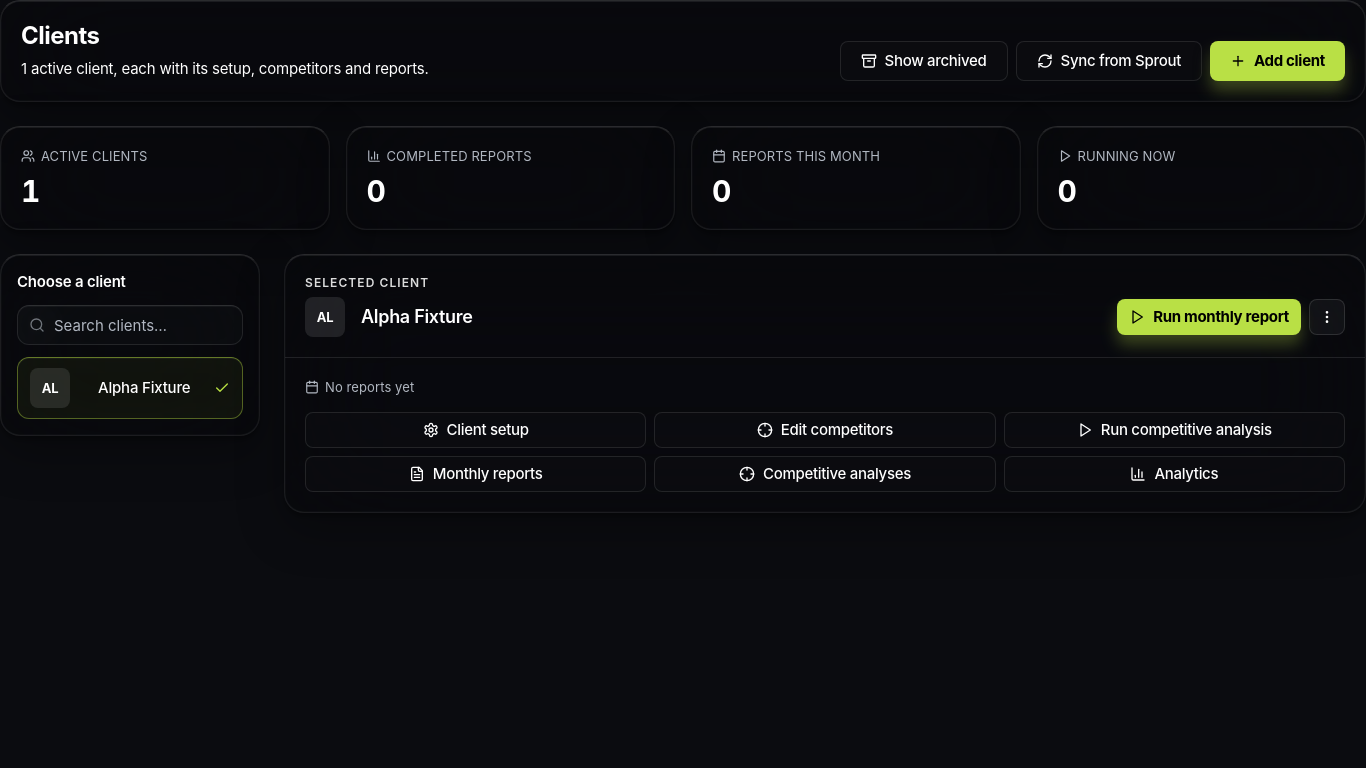
Scenario: when the run is over › says nothing was new
Click the button "Sync from Sprout".
click(1109, 61)  # box [1016,41,1202,81]
Wait 10020 ms
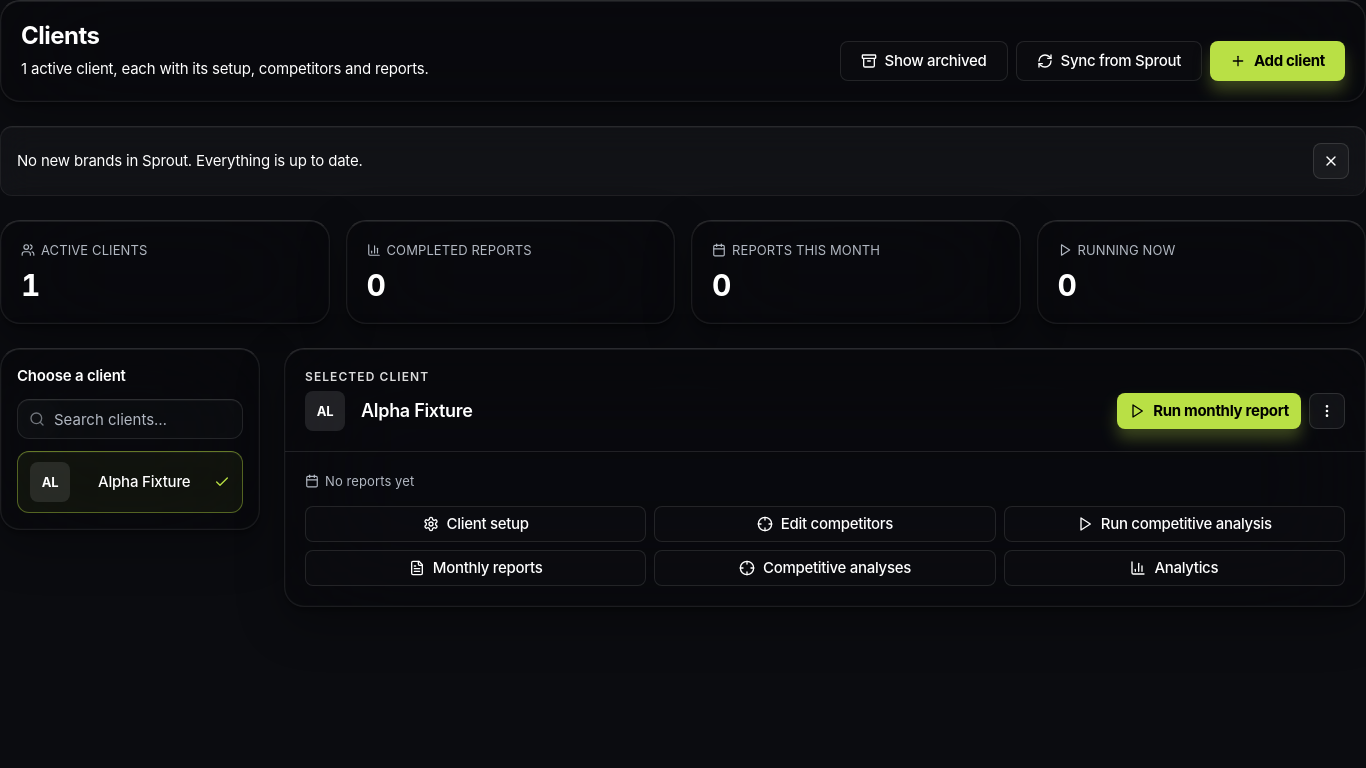
Expected: the message reads "No new brands in Sprout. Everything is up to date.", [17,151,363,170]
